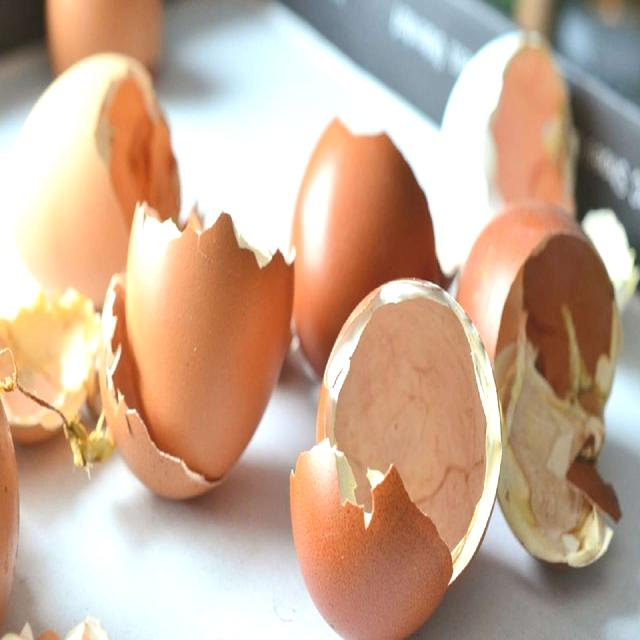organic: (317, 276, 499, 593), (128, 204, 294, 471), (292, 122, 439, 366), (9, 55, 157, 292), (435, 30, 575, 273), (456, 202, 612, 413), (2, 288, 98, 416), (500, 470, 608, 568), (49, 2, 160, 81), (100, 272, 146, 437), (177, 203, 278, 270), (1, 378, 20, 634)
